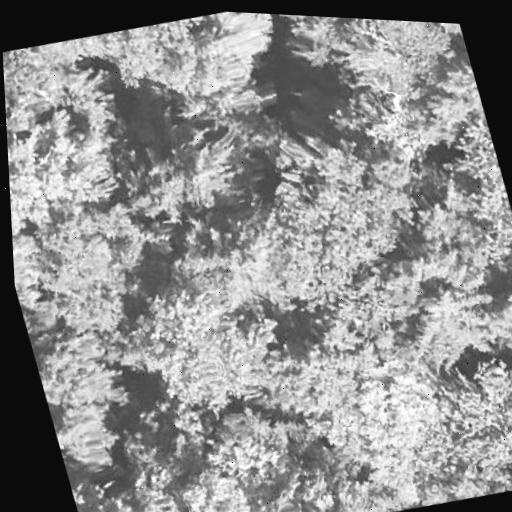tree-top: (218, 104, 450, 316), (125, 267, 291, 429), (309, 345, 466, 512), (101, 108, 253, 242), (28, 315, 148, 472), (22, 190, 171, 308), (177, 9, 311, 131), (5, 103, 123, 240), (81, 10, 225, 115), (259, 331, 376, 460), (315, 16, 461, 118), (422, 339, 512, 490), (439, 105, 512, 280), (188, 393, 308, 496), (399, 270, 504, 378), (242, 434, 373, 512), (305, 266, 401, 369), (45, 46, 131, 135), (402, 453, 512, 512), (163, 452, 267, 512), (66, 455, 168, 512), (12, 224, 63, 336), (2, 40, 74, 119), (44, 284, 128, 346), (477, 272, 512, 398), (276, 14, 359, 41)
